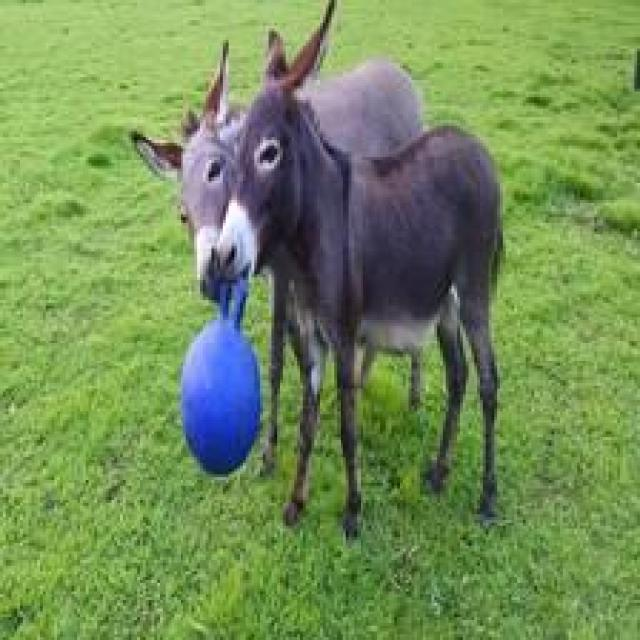Donkey: (208, 0, 503, 540), (108, 37, 423, 480)
